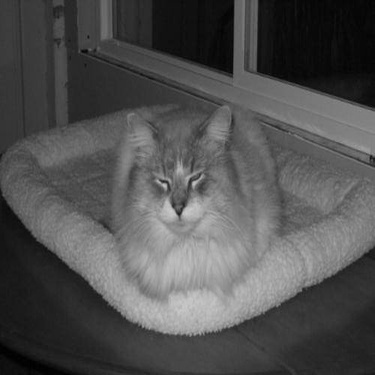cat: (77, 88, 299, 302)
